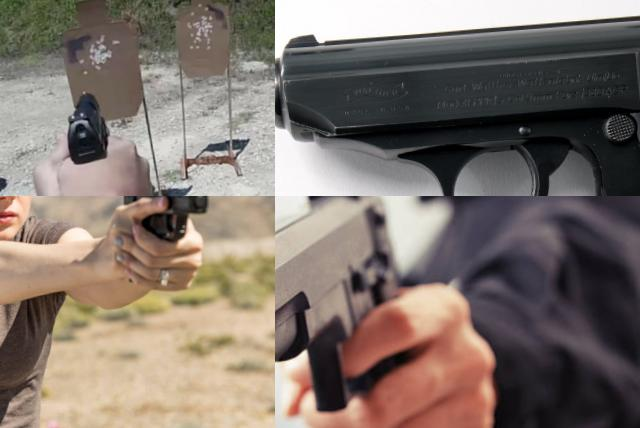handgun: (275, 0, 640, 196), (275, 196, 459, 428), (119, 196, 217, 256), (61, 86, 117, 173)
